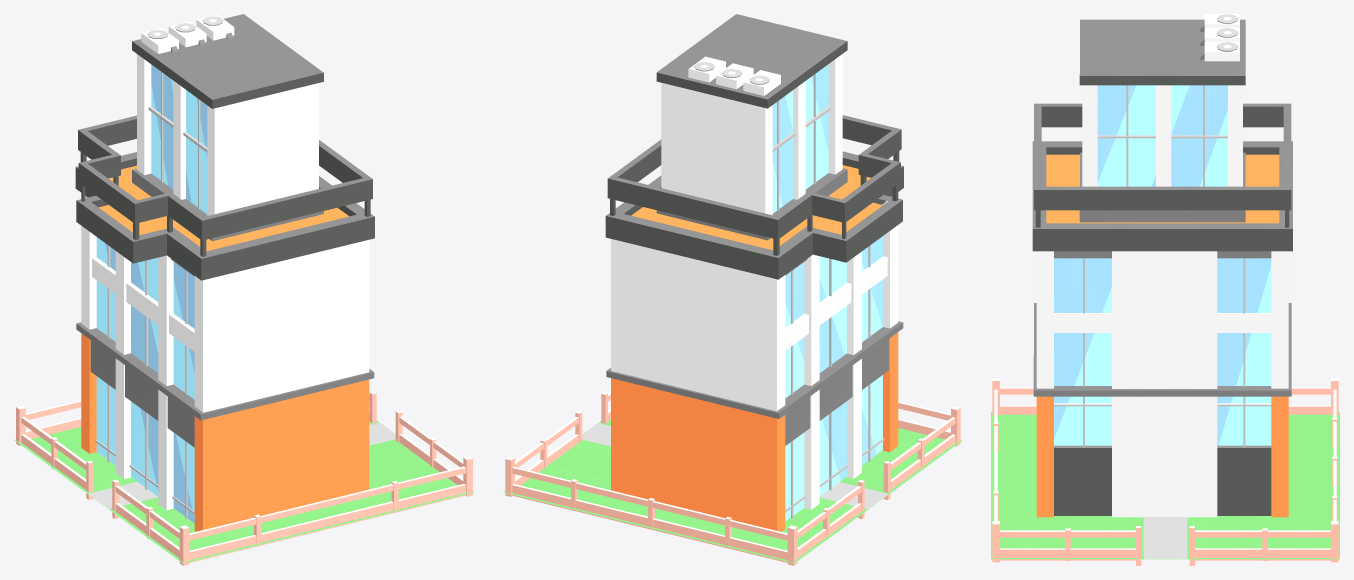
The picture shows the model from 3 angles, left to right: view 1: azimuth 30°, elevation 25°; view 2: azimuth 150°, elevation 25°; view 3: azimuth 270°, elevation 25°; orthographic projection. The views are drawn at different scales.
Parts seen in each view (by area): view 1: hotel.003 (1), tile_for_home_1x1.002 (4); view 2: hotel.003 (1), tile_for_home_1x1.002 (4); view 3: hotel.003 (1), tile_for_home_1x1.002 (4).
Part boxes in pixels (<box>): hotel.003 (1): <box>75,14,374,531</box>; tile_for_home_1x1.002 (4): <box>14,391,474,565</box>; hotel.003 (1): <box>605,14,903,531</box>; tile_for_home_1x1.002 (4): <box>503,391,962,565</box>; hotel.003 (1): <box>1032,14,1292,517</box>; tile_for_home_1x1.002 (4): <box>991,378,1339,565</box>.
Size of the model in its own units: 8 by 11.28 by 8.
1 material, 1 textured.
